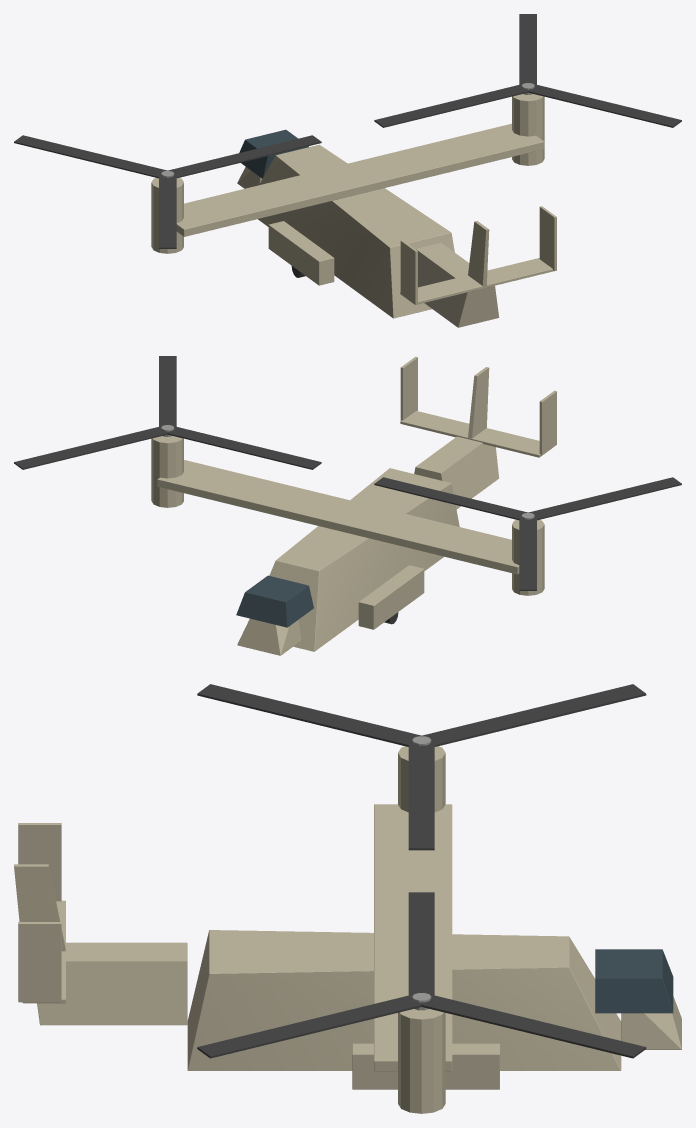
Rendered from usa_heli_mv22.glb.
The picture shows the model from 3 angles, top to bottom: view 1: azimuth 30°, elevation 25°; view 2: azimuth 150°, elevation 25°; view 3: azimuth 270°, elevation 25°; orthographic projection. The views are drawn at different scales.
Visible parts, largest first — view 1: body, trotor, rotor; view 2: body, trotor, rotor; view 3: body, trotor, rotor.
Part boxes in pixels (x1,y1,x2,y2): body: [151, 94, 556, 327]; trotor: [374, 14, 681, 127]; rotor: [14, 135, 321, 248]; body: [151, 356, 556, 655]; trotor: [14, 356, 321, 469]; rotor: [374, 477, 681, 590]; body: [14, 746, 681, 1113]; trotor: [197, 892, 646, 1058]; rotor: [197, 684, 646, 850].
Bounding box in the file's own units: 20.32 × 5.2 × 15.4.
